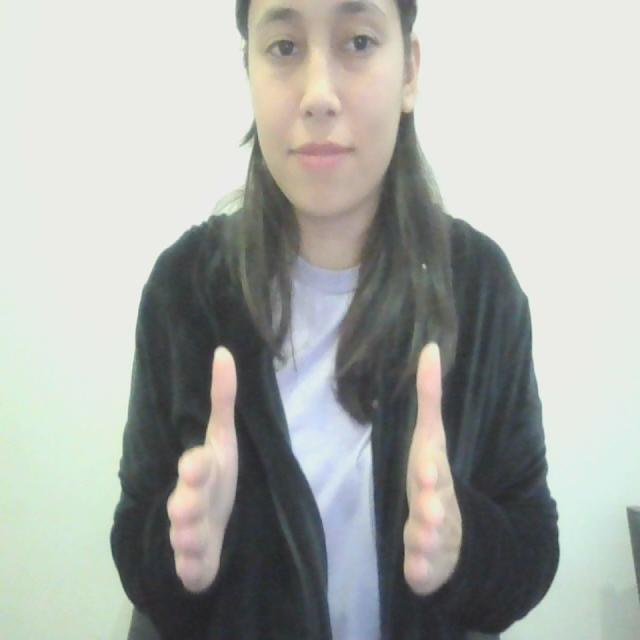Nasil: (161, 335, 475, 596)
